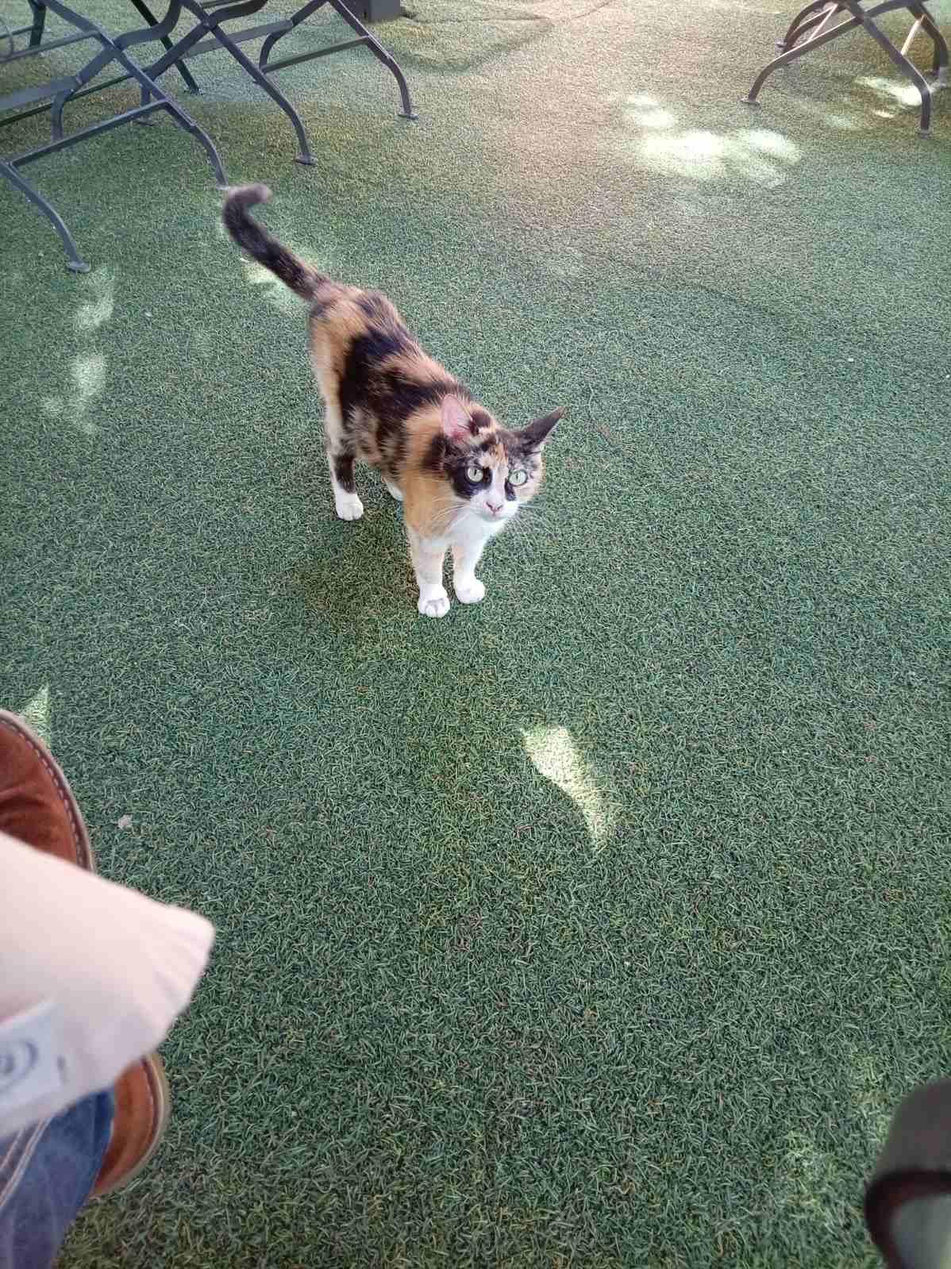macka: (221, 184, 568, 617)
